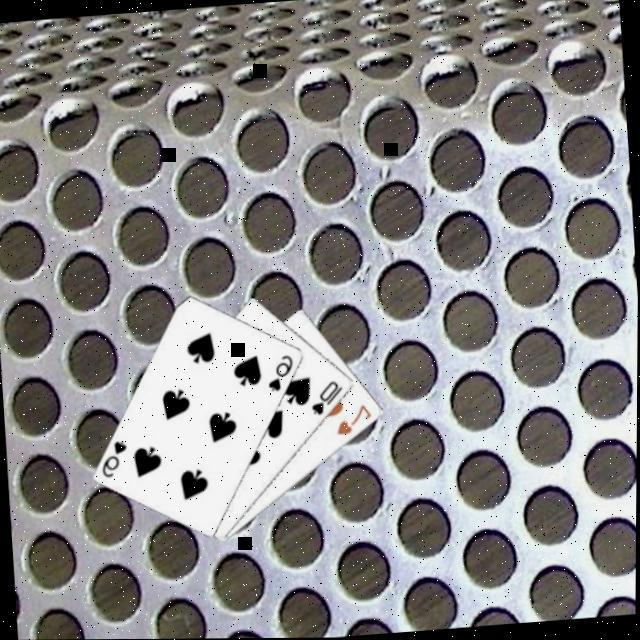10S: (307, 374, 348, 417)
6S: (98, 434, 133, 478), (264, 349, 299, 392)
7H: (333, 399, 376, 436)
